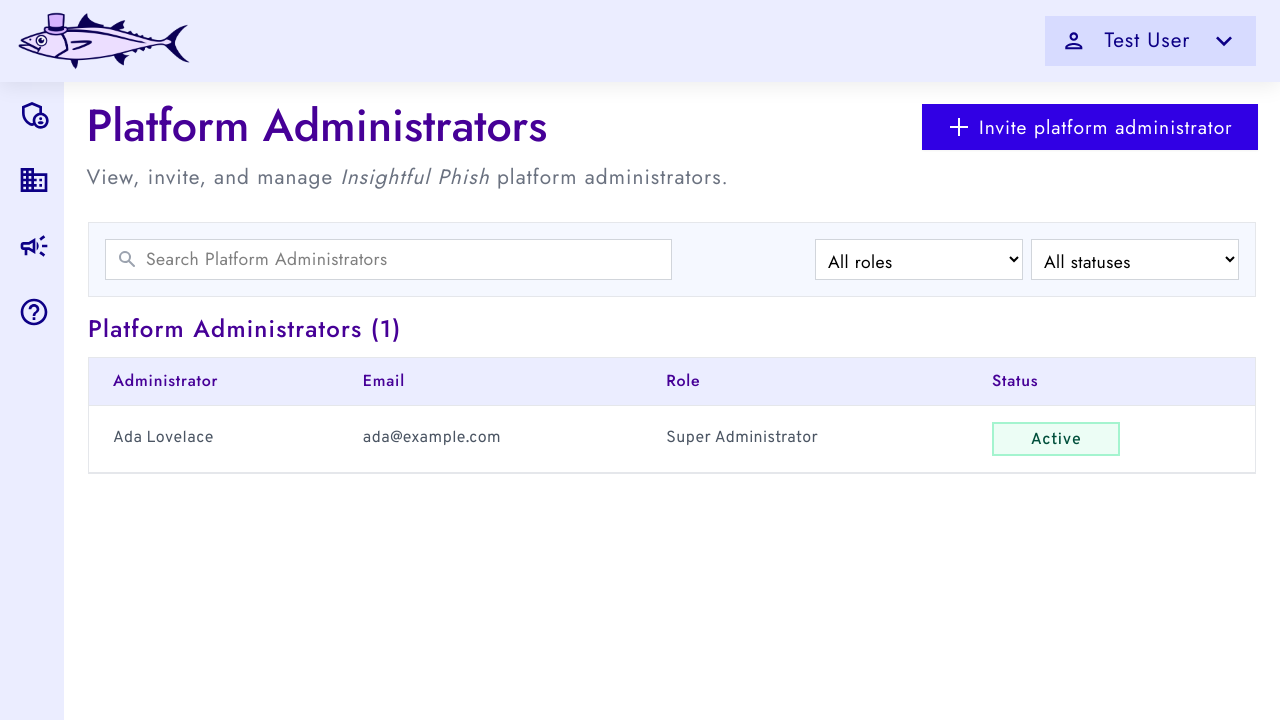
it: PlatformAdministratorsPage › does not treat an ordinary conflict as upgradeable
Expected: the text "Ada Lovelace" is shown, x1=113 y1=428 x2=214 y2=448
Click the button "Invite platform administrator" at (1090, 127), box x1=922 y1=104 x2=1258 y2=150
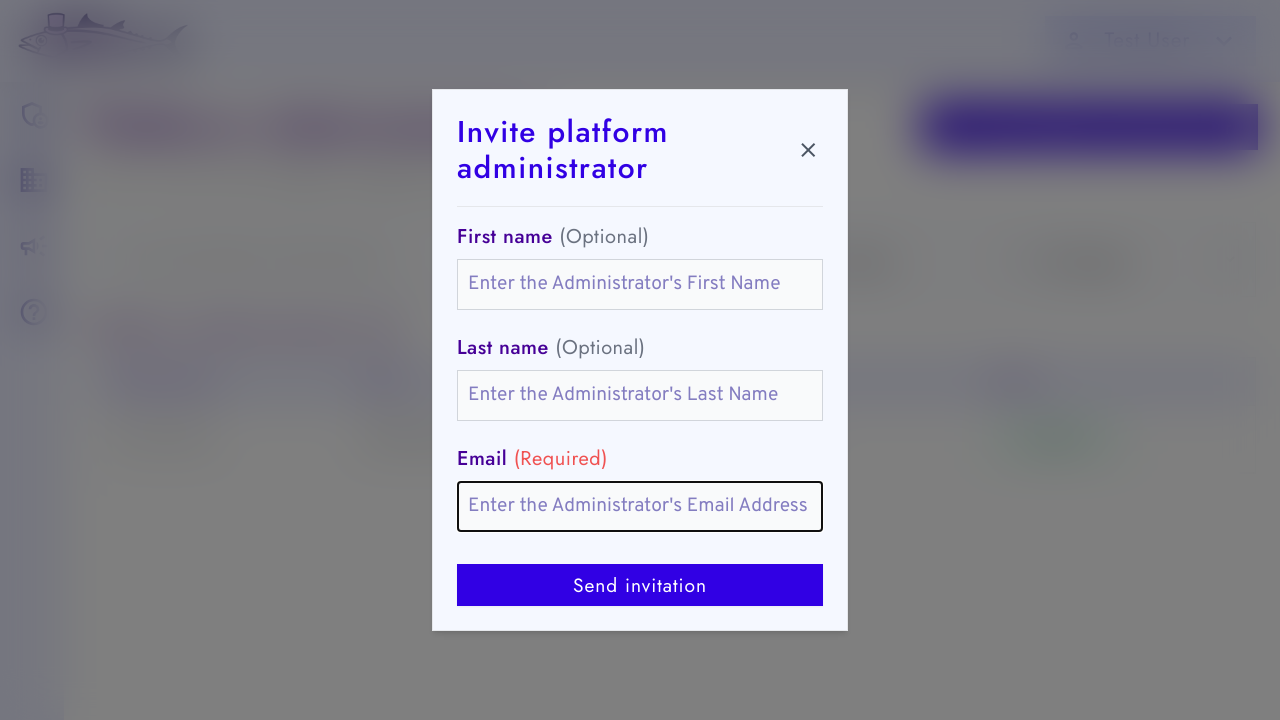
Type "existing@example.com" into the field labelled "Email (Required)" at (640, 506), box x1=457 y1=481 x2=823 y2=532
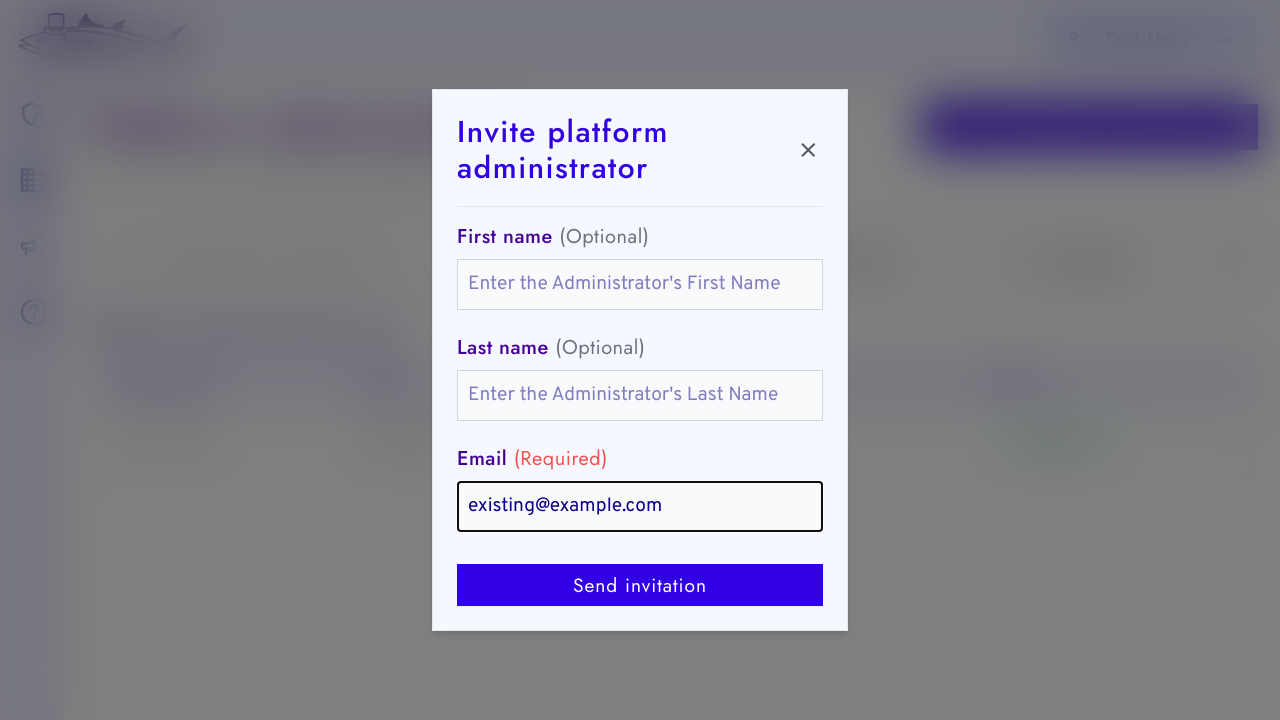
Type "Existing" into the field labelled "First name (Optional)" at (640, 285), box x1=457 y1=259 x2=823 y2=310
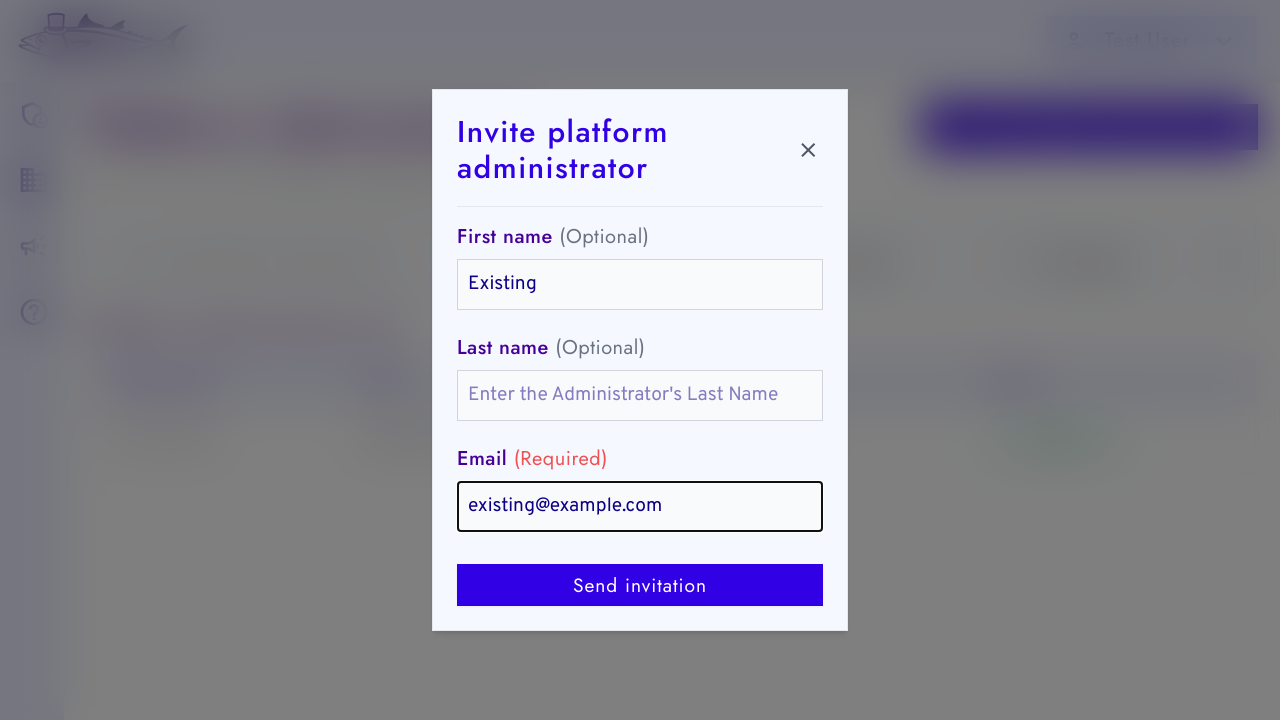
Click the button "Send invitation" at (640, 585), box x1=457 y1=564 x2=823 y2=606
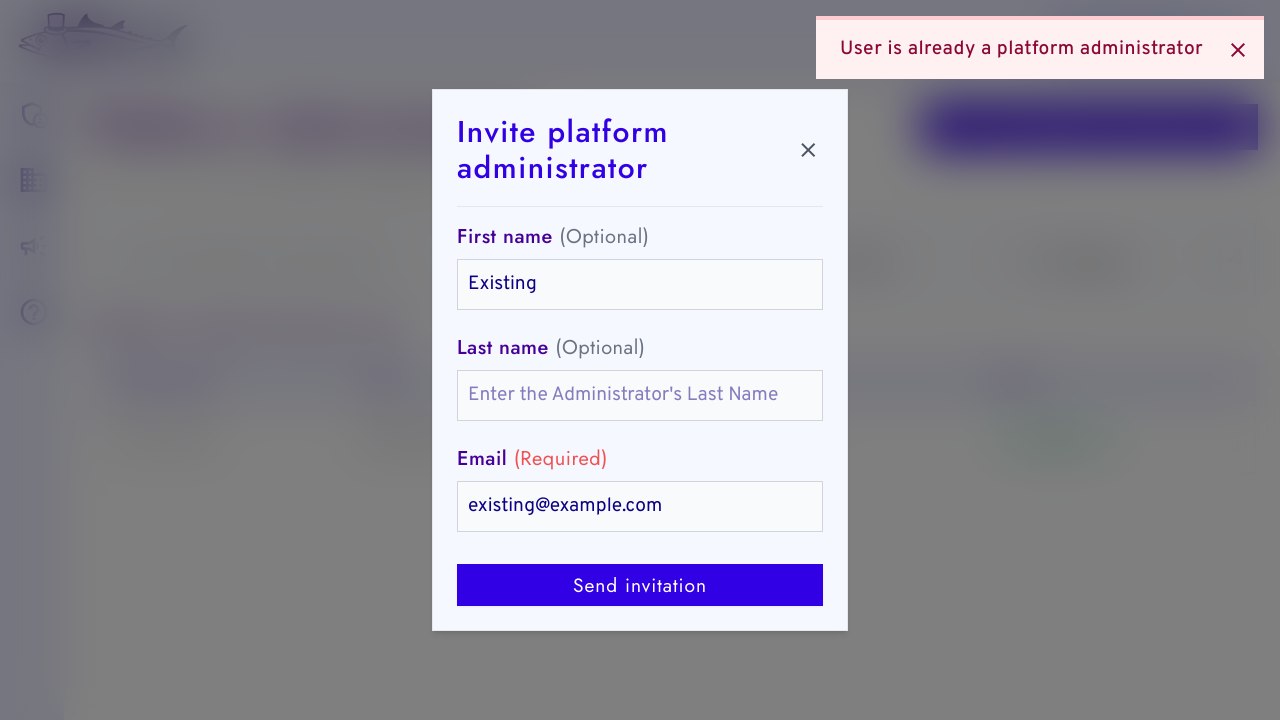
Now the button "Send invitation" is enabled, box x1=457 y1=564 x2=823 y2=606
Now the message reads "User is already a platform administrator", box x1=840 y1=37 x2=1203 y2=61
